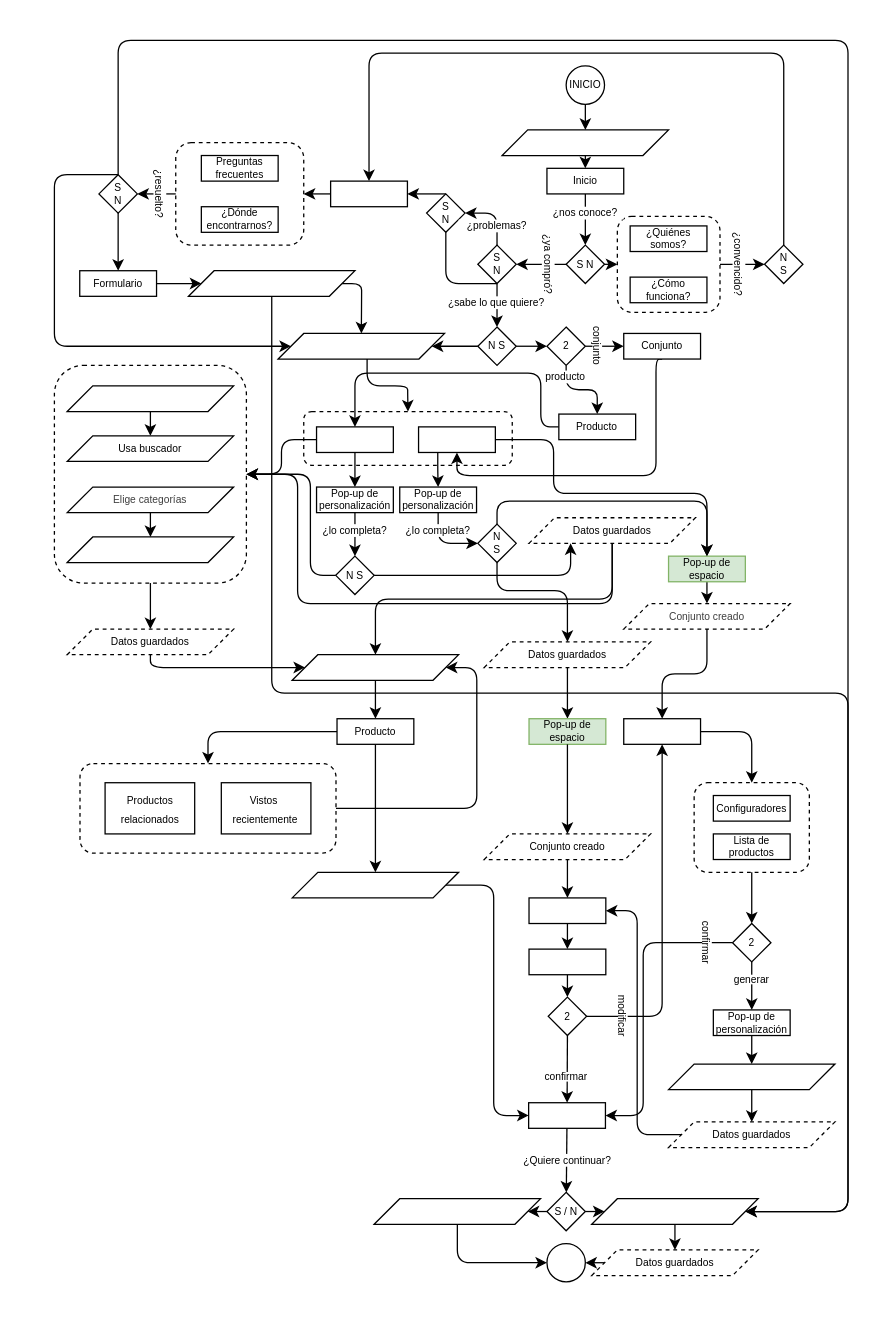
Image size: 892x1336. Some labels were removed from this diagram. Each missing label, with the centre of its shape:
Accede a la página: (x=585, y=142)
Buscar: (x=354, y=439)
Cliente abandona el sitio: (x=674, y=1210)
Cliente es redirigido: (x=457, y=1210)
Cliente navega: (x=361, y=345)
Configuradores mínimos: (x=567, y=961)
Confirma producto: (x=375, y=884)
Conjunto (creación): (x=661, y=730)
Conjunto (generación): (x=567, y=910)
Elige palabra clave: (x=150, y=398)
Elige producto: (x=375, y=666)
Envia formulario: (x=271, y=282)
Explorar: (x=456, y=439)
FIN: (x=565, y=1262)
Lo completa: (x=751, y=1076)
Resumen de pedido: (x=566, y=1114)
Soporte: (x=368, y=193)
Usa filtros: (x=150, y=549)
